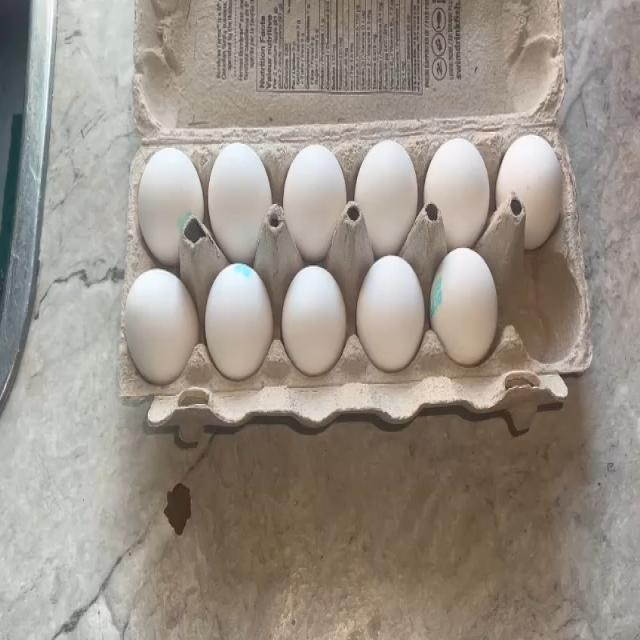Egg: (125, 264, 195, 376), (208, 264, 268, 377), (364, 250, 424, 362), (440, 248, 497, 364), (429, 125, 489, 231), (285, 266, 346, 366), (140, 144, 201, 240), (502, 120, 560, 220), (216, 138, 268, 238), (362, 132, 416, 225), (292, 148, 342, 234)
